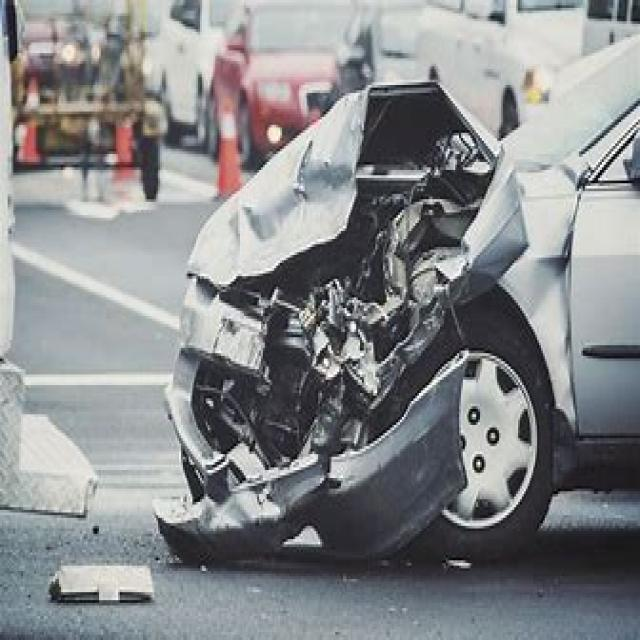Accident: (176, 82, 527, 551)
